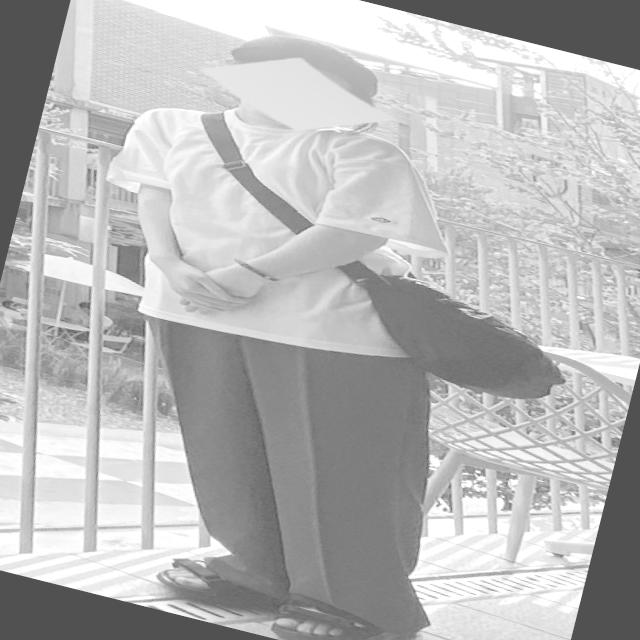shortsleeve: (79, 76, 469, 383)
slacks: (86, 291, 504, 640)
